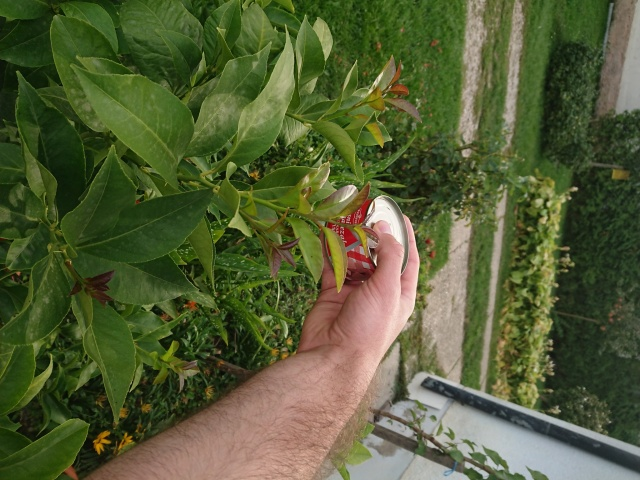Podravka Luncheon Meat 150g: (318, 191, 412, 286)
